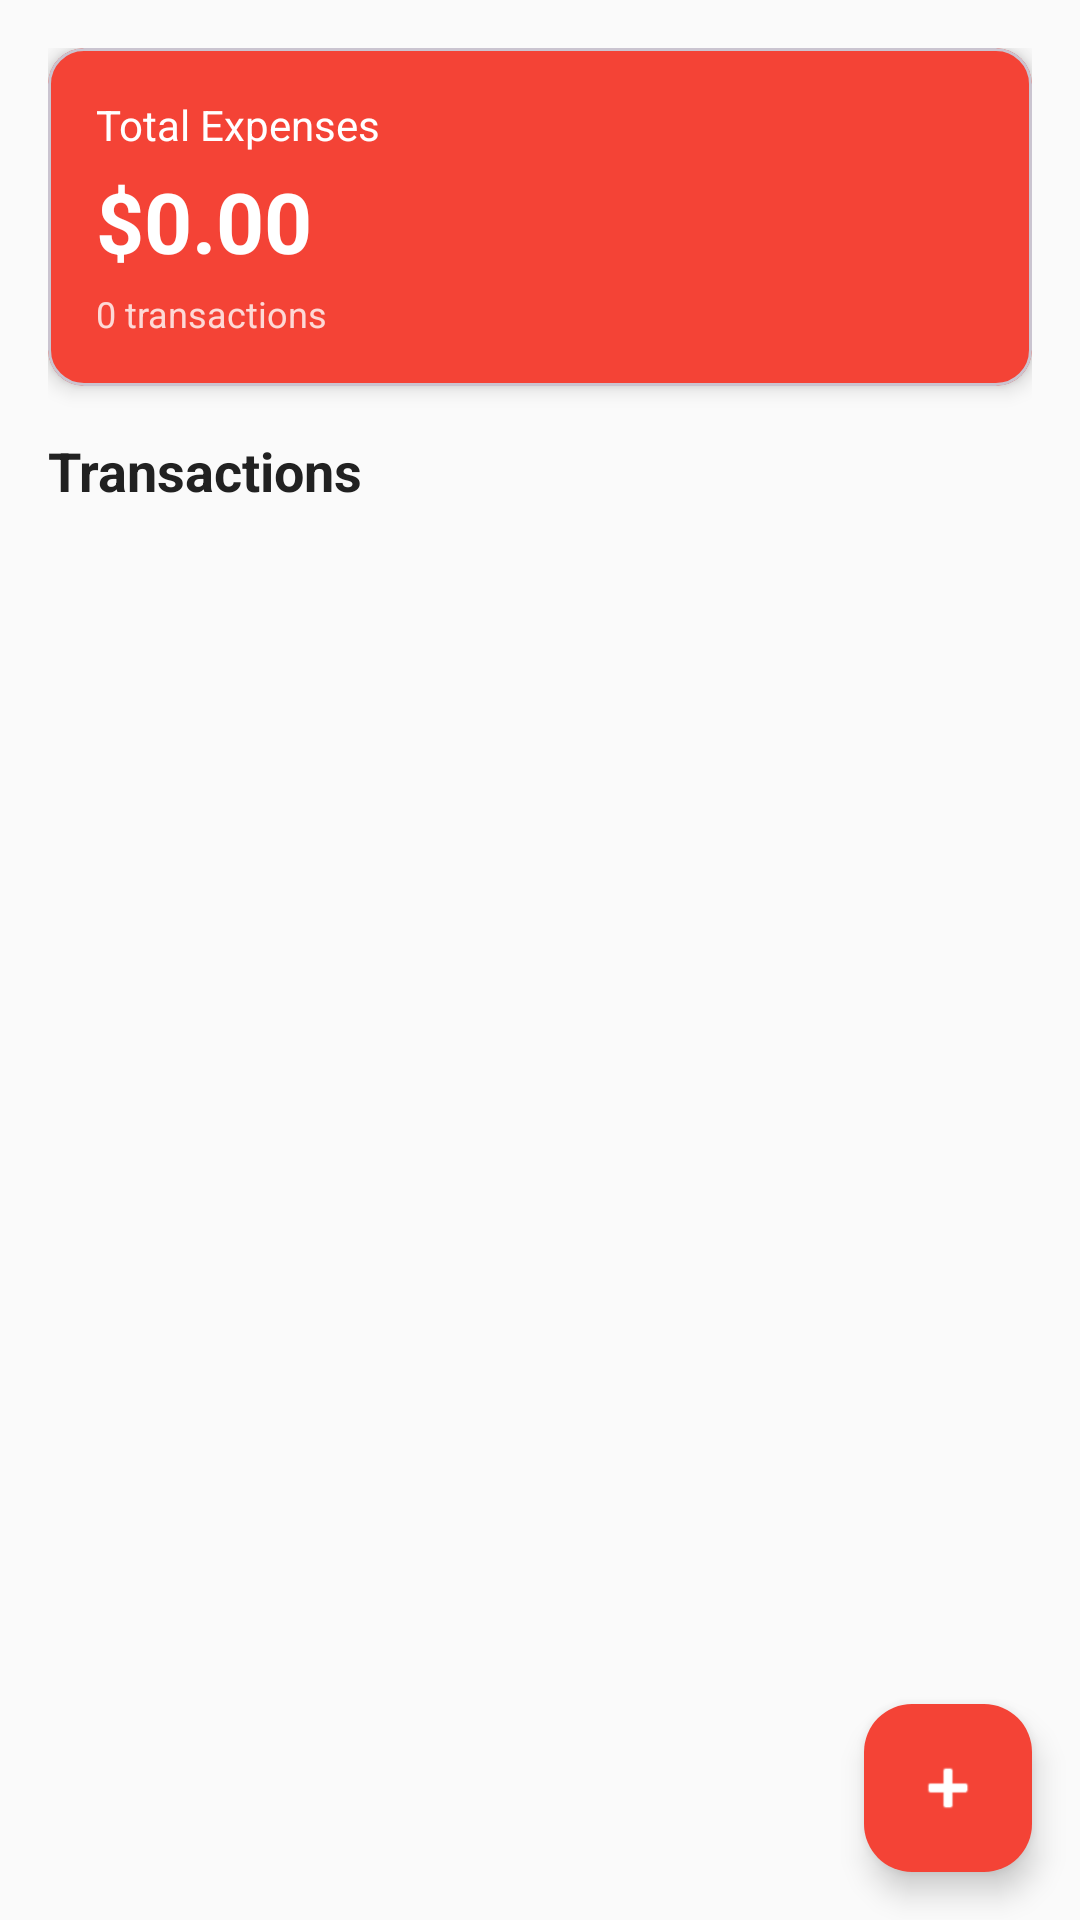

Point at icon controls on the screen. Image size 1080x1920, points as point (x, y).
Add Transaction: point (948, 1788)
